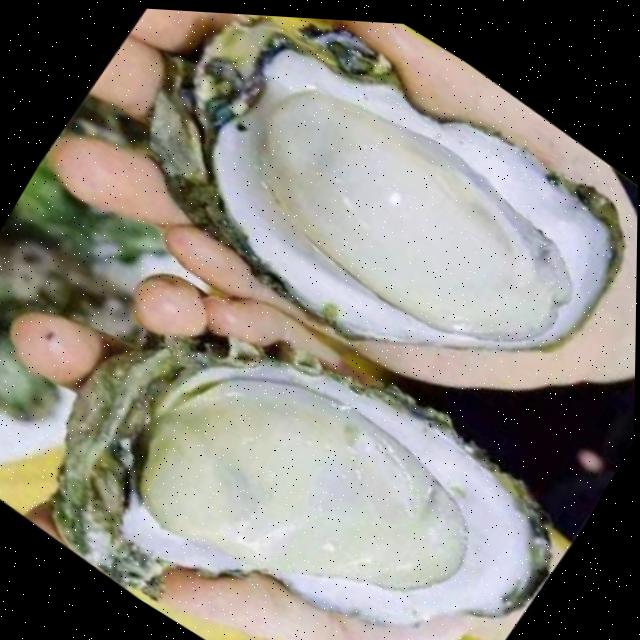Oyster-Open: (90, 6, 640, 454), (4, 232, 599, 640)
